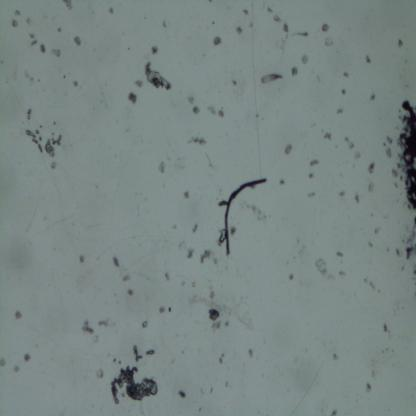Air bubble: (220, 229, 226, 243)
Background material: (107, 366, 157, 406), (190, 292, 233, 318), (146, 61, 173, 92), (314, 257, 334, 280), (247, 202, 269, 220), (204, 102, 227, 118), (239, 313, 255, 334), (278, 36, 290, 62), (259, 72, 282, 84), (81, 316, 94, 336), (44, 138, 56, 158), (199, 248, 213, 264), (186, 136, 207, 146), (208, 319, 223, 333), (132, 346, 142, 362), (28, 32, 39, 46), (111, 253, 122, 267), (395, 35, 405, 50), (291, 30, 309, 38), (60, 0, 73, 11), (284, 142, 294, 156), (213, 32, 223, 46), (344, 137, 355, 149), (208, 309, 219, 321), (204, 153, 214, 166), (297, 245, 307, 258), (52, 134, 63, 145), (393, 245, 403, 257), (127, 92, 137, 104), (98, 318, 109, 328), (320, 22, 330, 33), (323, 131, 333, 142), (186, 247, 194, 260), (282, 21, 290, 34), (227, 226, 237, 236), (51, 48, 61, 58), (324, 37, 335, 46), (178, 388, 186, 400), (187, 93, 195, 105), (353, 193, 361, 205), (368, 161, 375, 174), (121, 273, 130, 283), (183, 190, 192, 200), (190, 105, 200, 114), (26, 129, 36, 138), (144, 348, 155, 356), (382, 323, 390, 334), (159, 159, 165, 173), (370, 180, 376, 194), (76, 254, 85, 263), (22, 353, 31, 362), (140, 321, 150, 329), (11, 365, 21, 373), (386, 134, 394, 144), (26, 108, 32, 121), (370, 280, 377, 291), (274, 14, 282, 23), (163, 272, 171, 281), (364, 384, 372, 393), (14, 310, 22, 319), (309, 160, 318, 168), (301, 55, 309, 64), (96, 368, 103, 378), (126, 286, 133, 296), (338, 189, 345, 199), (386, 146, 391, 160), (135, 80, 143, 88), (336, 106, 344, 114), (412, 263, 416, 279), (306, 172, 314, 180), (191, 225, 198, 234), (266, 7, 273, 16), (151, 46, 158, 55), (236, 25, 242, 35), (219, 354, 225, 364), (40, 44, 46, 54), (354, 150, 360, 160), (306, 192, 316, 198), (38, 144, 44, 154), (241, 8, 249, 15), (209, 291, 216, 299), (336, 251, 344, 258), (367, 54, 372, 65), (12, 20, 18, 29), (248, 20, 254, 29), (374, 226, 380, 235), (75, 37, 81, 46), (292, 64, 297, 74), (231, 78, 238, 85), (158, 306, 164, 314), (0, 359, 6, 367), (343, 72, 351, 78), (392, 170, 398, 178), (370, 93, 376, 101), (224, 320, 230, 327), (72, 80, 78, 87), (26, 19, 32, 26), (212, 258, 219, 264), (191, 281, 197, 288), (108, 7, 114, 14), (224, 380, 229, 388), (163, 20, 168, 28), (249, 348, 253, 358), (31, 139, 39, 144), (289, 272, 294, 280), (368, 240, 373, 248), (342, 88, 347, 96), (334, 352, 338, 362), (14, 10, 20, 16), (51, 164, 57, 170), (332, 410, 338, 416), (94, 335, 99, 342), (280, 180, 285, 186), (173, 223, 178, 229), (167, 306, 172, 312), (57, 28, 62, 33), (181, 280, 185, 286), (339, 272, 345, 276), (36, 129, 40, 135), (25, 72, 29, 78), (210, 387, 213, 393), (30, 78, 34, 82), (199, 407, 202, 412), (384, 142, 387, 147), (39, 137, 42, 141), (40, 125, 43, 128), (118, 361, 121, 364), (54, 121, 56, 125), (114, 358, 116, 362), (144, 16, 146, 20), (63, 76, 66, 78), (128, 48, 130, 50)
Cotton: (224, 177, 268, 259)
Pen: (397, 99, 416, 210), (404, 214, 416, 260)
